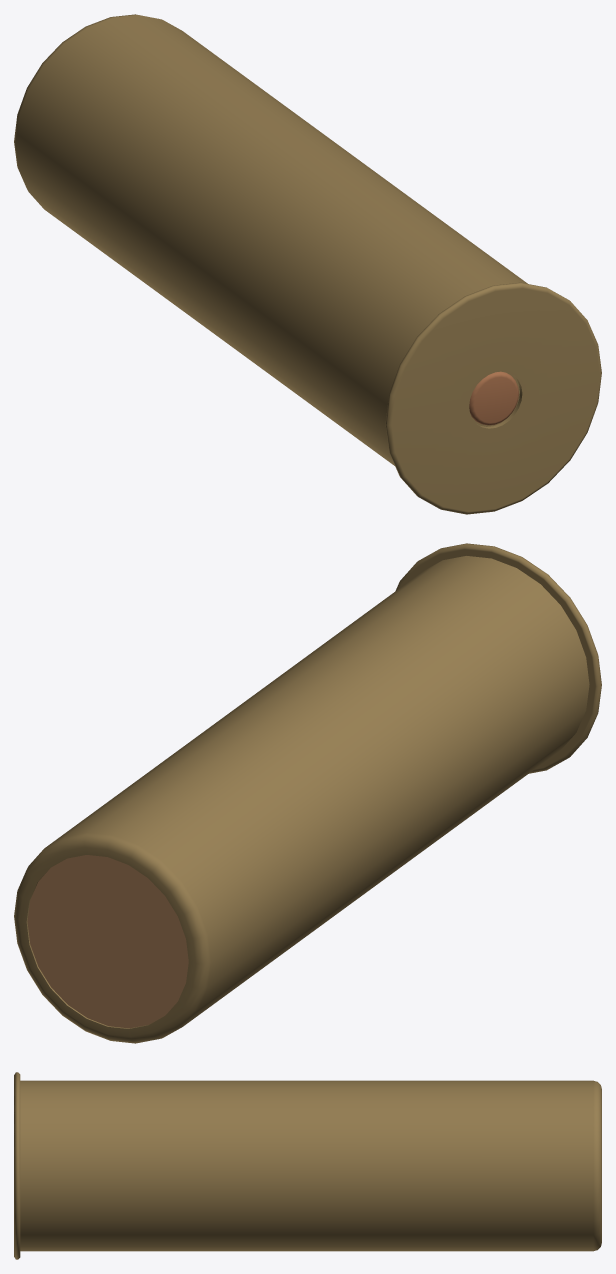
The model's file is ShotgunRound.fbx.
The picture shows the model from 3 angles, top to bottom: view 1: azimuth 30°, elevation 25°; view 2: azimuth 150°, elevation 25°; view 3: azimuth 270°, elevation 25°; orthographic projection. The views are drawn at different scales.
Parts seen in each view (by area): view 1: ShotgunRound; view 2: ShotgunRound; view 3: ShotgunRound.
Boxes of the visible parts, x1=… form: ShotgunRound: x1=14, y1=14, x2=601, y2=514; ShotgunRound: x1=14, y1=543, x2=601, y2=1043; ShotgunRound: x1=14, y1=1072, x2=601, y2=1259.
Bounding box in the file's own units: 2.1 × 2.1 × 6.57.
